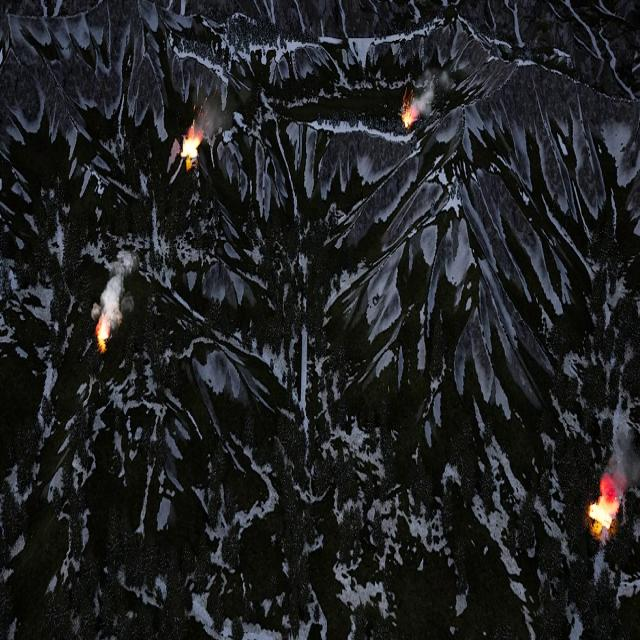fire: (589, 487, 619, 531), (181, 131, 200, 165), (97, 318, 110, 348), (403, 111, 417, 130)
smoke: (97, 251, 139, 329), (606, 414, 640, 497), (410, 62, 452, 116), (192, 99, 232, 141)
